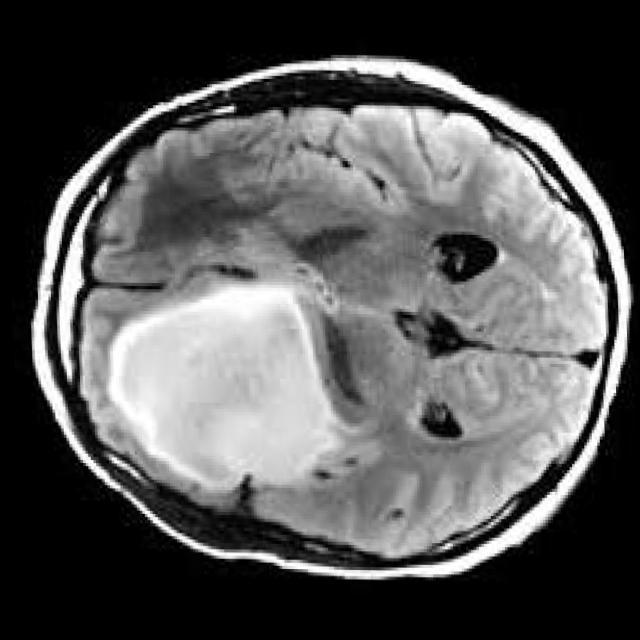Tumor: (107, 287, 327, 493)
